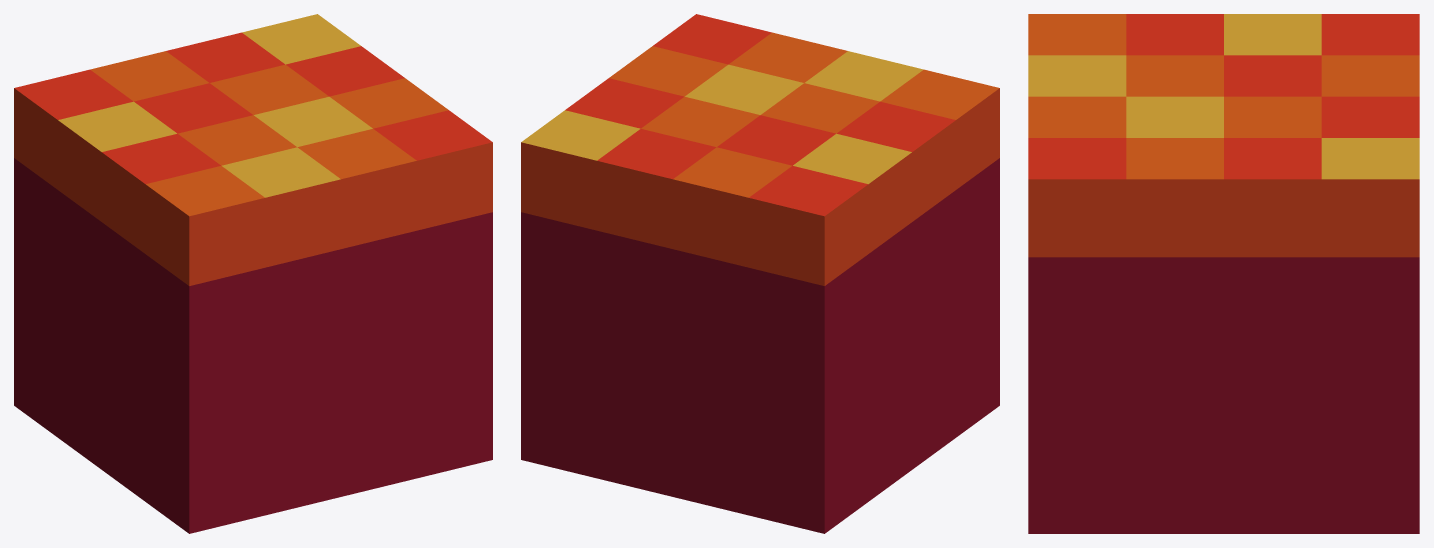
Rendered from kill.glb.
3 views of the same model, side by side, from view 1: azimuth 30°, elevation 25°; view 2: azimuth 150°, elevation 25°; view 3: azimuth 270°, elevation 25° (orthographic). The views are drawn at different scales.
Parts seen in each view (by area): view 1: Body; view 2: Body; view 3: Body.
Boxes of the visible parts, bbox=[...] form: Body: bbox=[14, 14, 492, 533]; Body: bbox=[521, 14, 999, 533]; Body: bbox=[1028, 14, 1419, 533].
Size of the model in its own units: 1 by 1 by 1.
